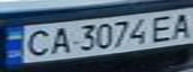0: (93, 20, 115, 51)
3: (75, 21, 100, 52)
4: (127, 15, 154, 45)
7: (112, 18, 133, 48)
A: (45, 25, 75, 56), (166, 10, 193, 39)
C: (18, 27, 54, 58)
E: (148, 12, 181, 43)
